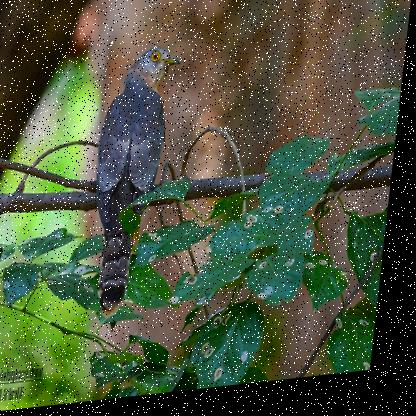Burung: (88, 48, 185, 323)
